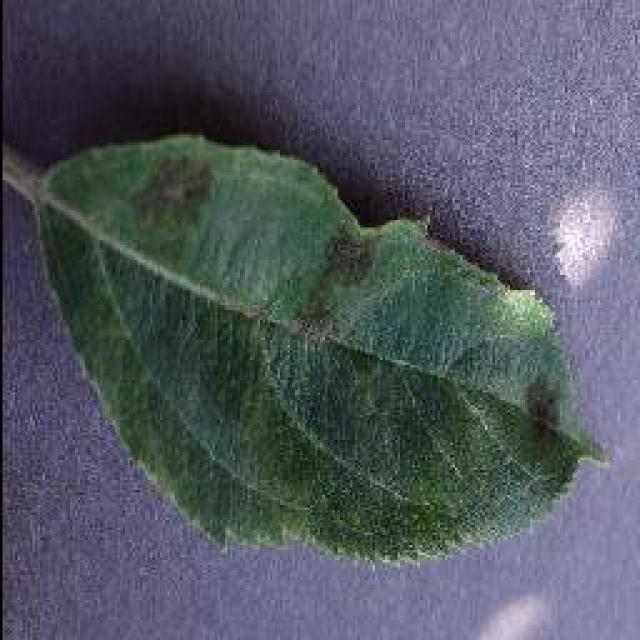apple scab disease: (22, 128, 610, 568)
